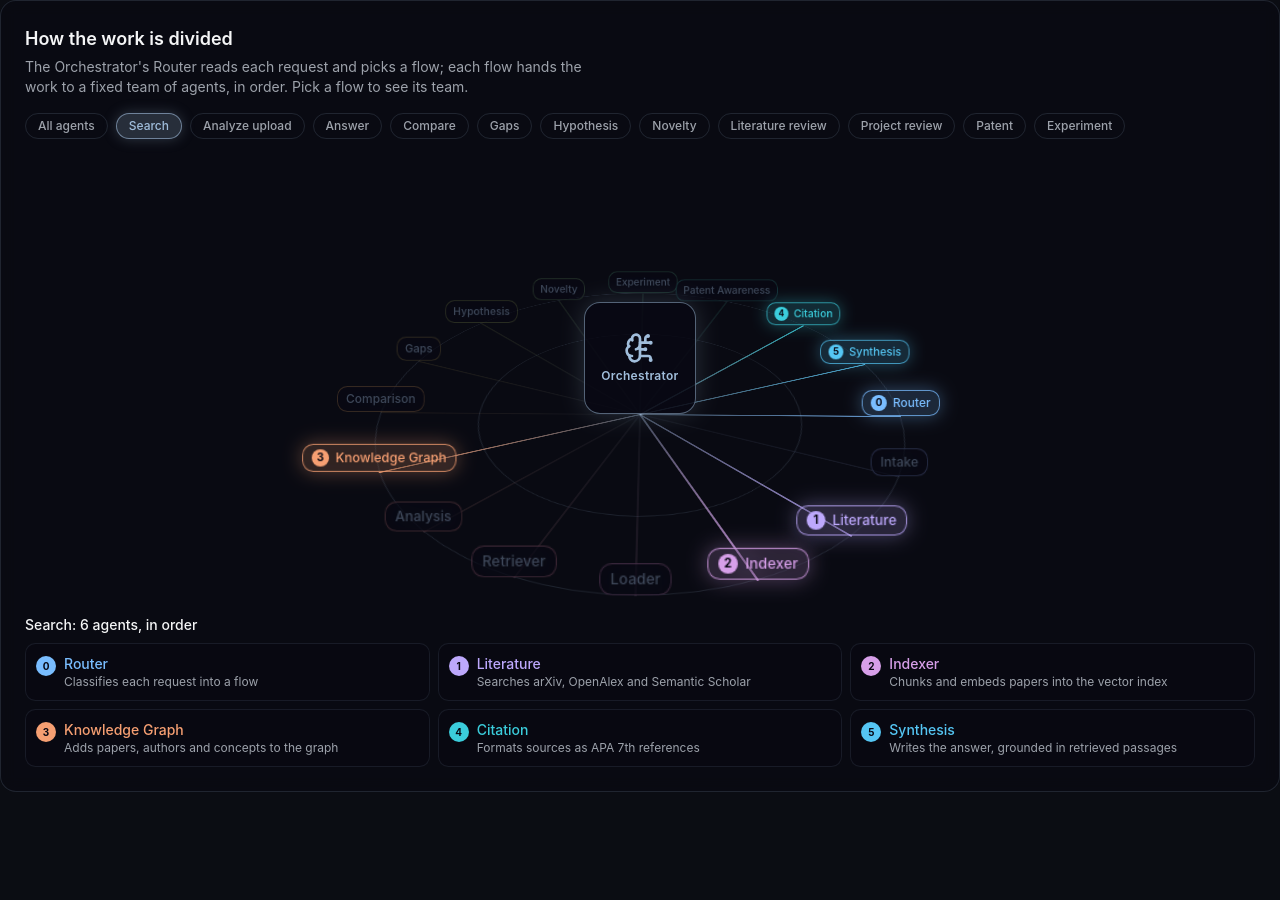
it: AgentNetwork3D › switches the team when another flow is picked
Click the button "Patent": {"x": 995, "y": 126} left=963, top=113, right=1026, bottom=139
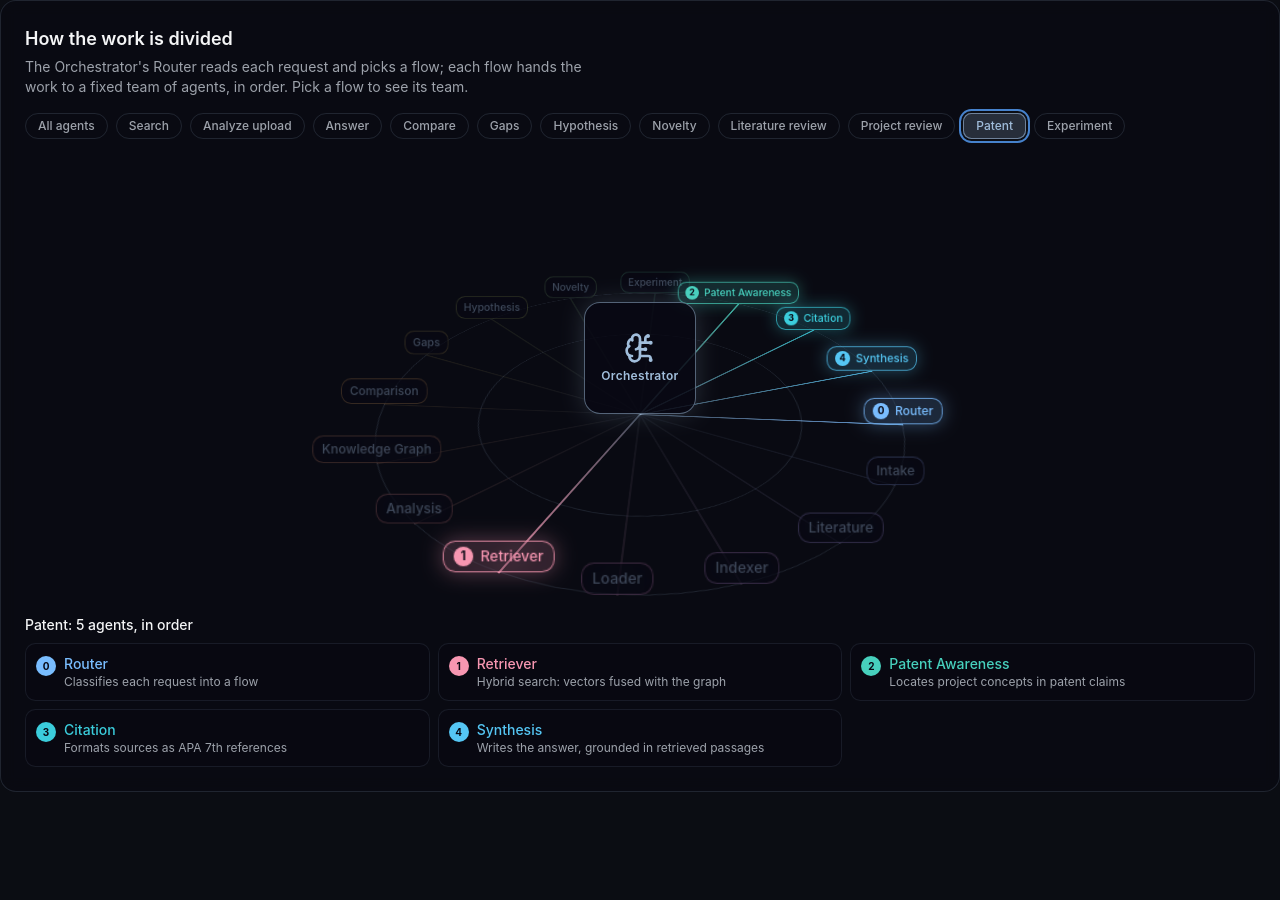
Expected: the text "Patent Awareness" is shown, left=704, top=286, right=791, bottom=299
Now the heading "Patent: 5 agents, in order" is shown, box left=25, top=616, right=193, bottom=633
